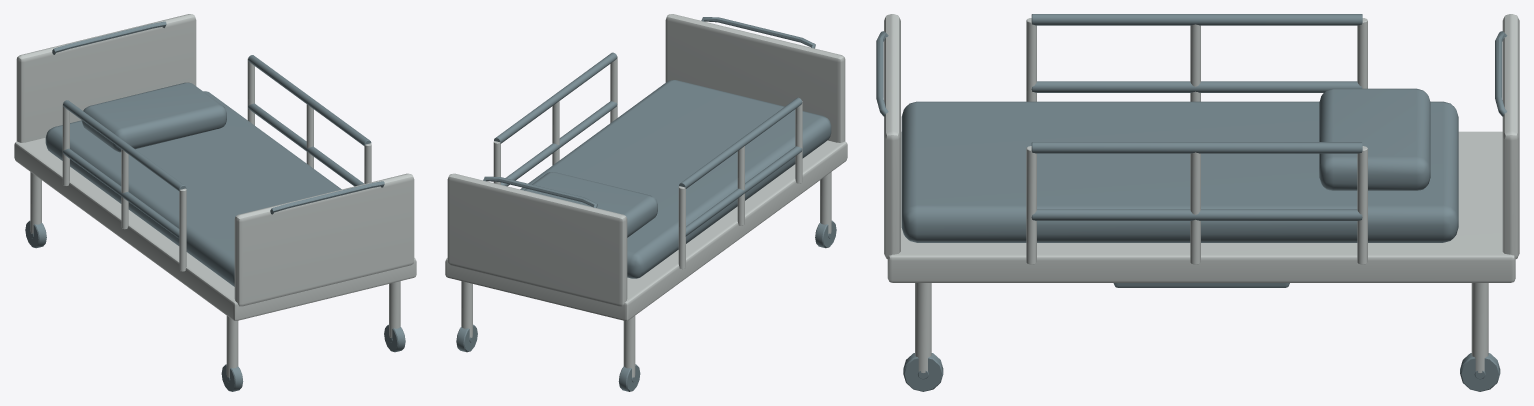
The model's file is hospital-bed.glb.
The picture shows the model from 3 angles, left to right: view 1: azimuth 30°, elevation 25°; view 2: azimuth 150°, elevation 25°; view 3: azimuth 270°, elevation 25°; orthographic projection. The views are drawn at different scales.
Visible parts, largest first — view 1: patient_mattress, bed_end_panel.001, bed_end_panel, bed_frame, pillow, safety_rail.003, safety_rail.001, safety_rail, safety_rail.002, bed_leg.001, rail_support.002, bed_push_handle.001 (+10 smaller); view 2: patient_mattress, bed_end_panel, bed_end_panel.001, bed_frame, pillow, safety_rail.003, safety_rail.001, safety_rail, safety_rail.002, bed_leg, bed_push_handle, bed_push_handle.001 (+10 smaller); view 3: patient_mattress, bed_frame, pillow, bed_end_panel, bed_end_panel.001, safety_rail.003, safety_rail.001, safety_rail.002, safety_rail, bed_leg.002, bed_leg.003, rail_support.005 (+10 smaller).
Part boxes in pixels (x1=…): patient_mattress: x1=45, y1=91, x2=341, y2=286; bed_end_panel.001: x1=234, y1=173, x2=414, y2=306; bed_end_panel: x1=16, y1=14, x2=196, y2=142; bed_frame: x1=14, y1=137, x2=416, y2=320; pillow: x1=81, y1=82, x2=226, y2=152; safety_rail.003: x1=248, y1=55, x2=371, y2=146; safety_rail.001: x1=63, y1=100, x2=186, y2=191; safety_rail: x1=63, y1=148, x2=179, y2=238; safety_rail.002: x1=248, y1=103, x2=363, y2=186; bed_leg.001: x1=226, y1=316, x2=238, y2=377; rail_support.002: x1=179, y1=188, x2=186, y2=271; bed_push_handle.001: x1=270, y1=181, x2=384, y2=214; patient_mattress: x1=520, y1=80, x2=831, y2=278; bed_end_panel: x1=447, y1=173, x2=627, y2=306; bed_end_panel.001: x1=665, y1=14, x2=845, y2=142; bed_frame: x1=445, y1=140, x2=847, y2=320; pillow: x1=524, y1=172, x2=657, y2=237; safety_rail.003: x1=494, y1=52, x2=617, y2=143; safety_rail.001: x1=679, y1=97, x2=802, y2=188; safety_rail: x1=685, y1=146, x2=802, y2=236; safety_rail.002: x1=501, y1=101, x2=617, y2=186; bed_leg: x1=623, y1=316, x2=635, y2=377; bed_push_handle: x1=483, y1=176, x2=597, y2=207; bed_push_handle.001: x1=701, y1=17, x2=815, y2=48; patient_mattress: x1=901, y1=101, x2=1458, y2=242; bed_frame: x1=887, y1=131, x2=1515, y2=282; pillow: x1=1319, y1=88, x2=1430, y2=190; bed_end_panel: x1=1502, y1=14, x2=1519, y2=258; bed_end_panel.001: x1=884, y1=14, x2=900, y2=258; safety_rail.003: x1=1031, y1=142, x2=1362, y2=153; safety_rail.001: x1=1031, y1=14, x2=1362, y2=25; safety_rail.002: x1=1031, y1=209, x2=1362, y2=220; safety_rail: x1=1031, y1=81, x2=1362, y2=92; bed_leg.002: x1=1471, y1=283, x2=1488, y2=373; bed_leg.003: x1=915, y1=283, x2=931, y2=373; rail_support.005: x1=1026, y1=146, x2=1036, y2=264.
Size of the model in its own units: 1.02 by 0.9507 by 2.08.
